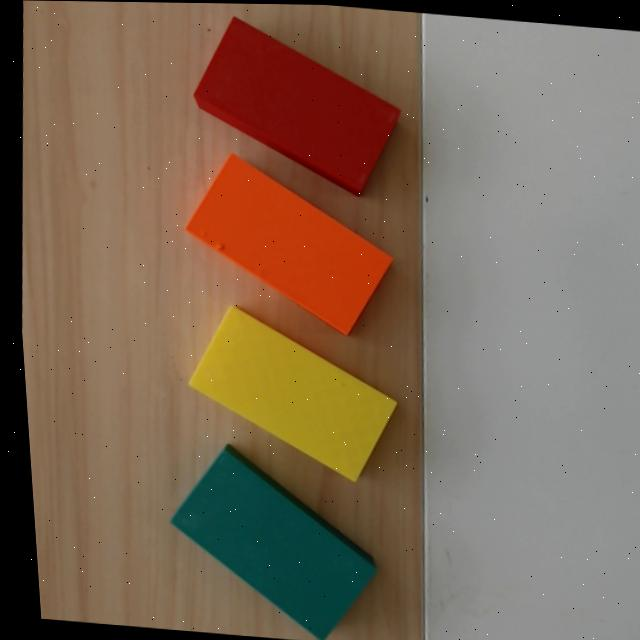Balok-Hijau-1005025: (166, 443, 381, 640)
Balok-Jingga-1005025: (180, 152, 395, 336)
Balok-Kuning-1005025: (183, 303, 400, 483)
Balok-Merah-1005025: (185, 16, 405, 198)
